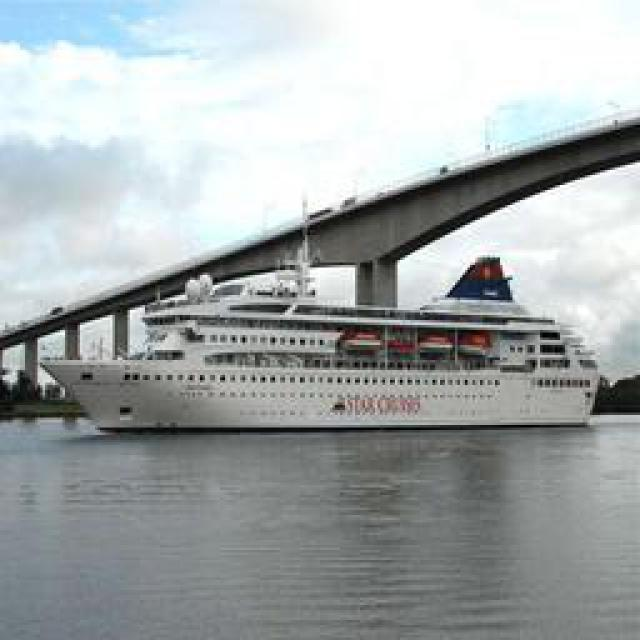Ship: (51, 249, 606, 439)
